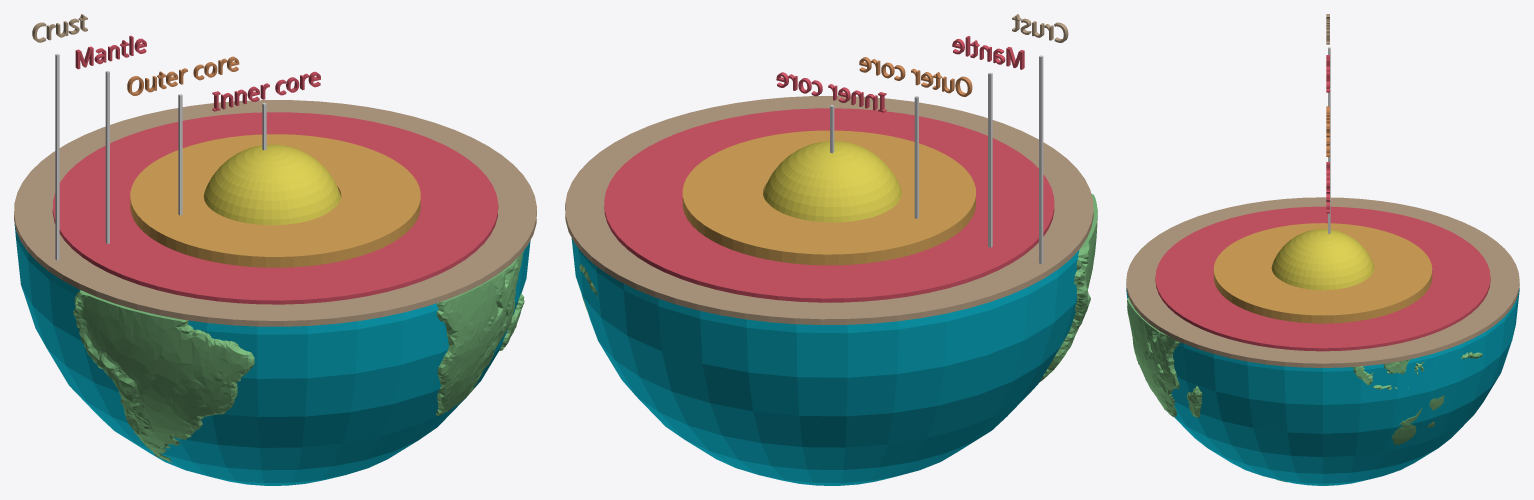
File: asset.glb
The picture shows the model from 3 angles, left to right: view 1: azimuth 30°, elevation 25°; view 2: azimuth 150°, elevation 25°; view 3: azimuth 270°, elevation 25°; orthographic projection. The views are drawn at different scales.
Parts seen in each view (by area): view 1: Mesh_Mesh_head_geo.001_lambert2SG.001; view 2: Mesh_Mesh_head_geo.001_lambert2SG.001; view 3: Mesh_Mesh_head_geo.001_lambert2SG.001.
Part boxes in pixels (x1=…): Mesh_Mesh_head_geo.001_lambert2SG.001: x1=14, y1=14, x2=536, y2=485; Mesh_Mesh_head_geo.001_lambert2SG.001: x1=565, y1=14, x2=1097, y2=485; Mesh_Mesh_head_geo.001_lambert2SG.001: x1=1126, y1=14, x2=1519, y2=485.
Size of the model in its own units: 83.16 by 84.11 by 81.
